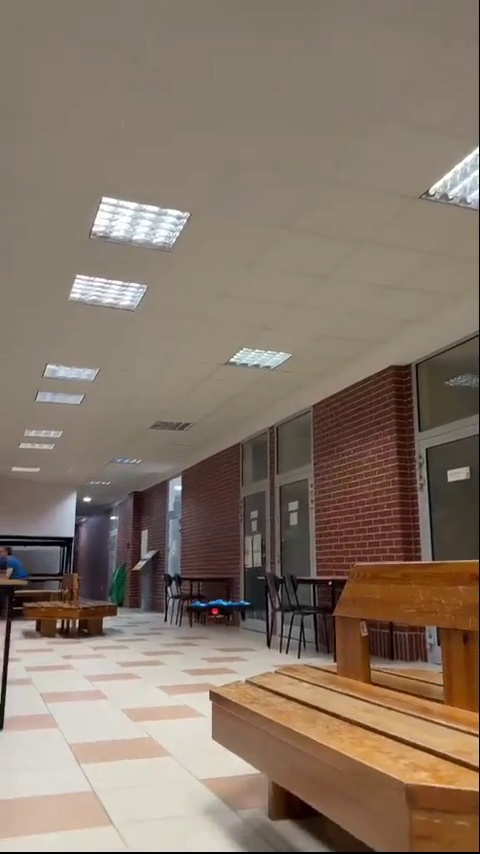drone: (182, 593, 253, 626)
